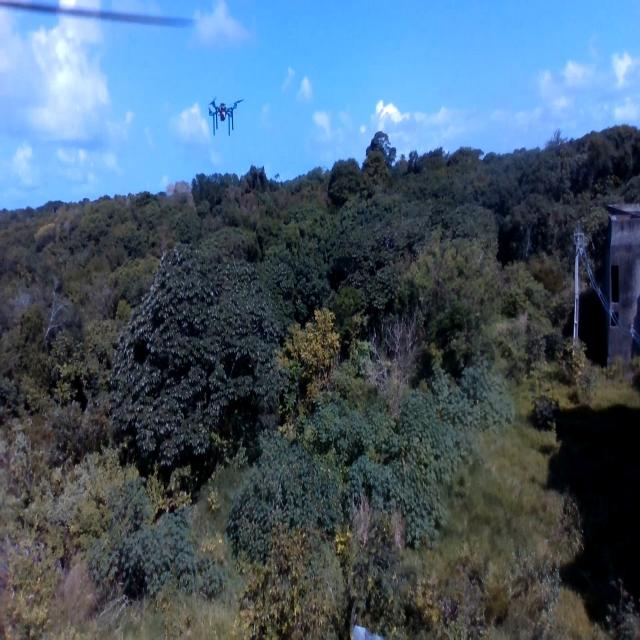-uav-: (201, 88, 248, 144)
